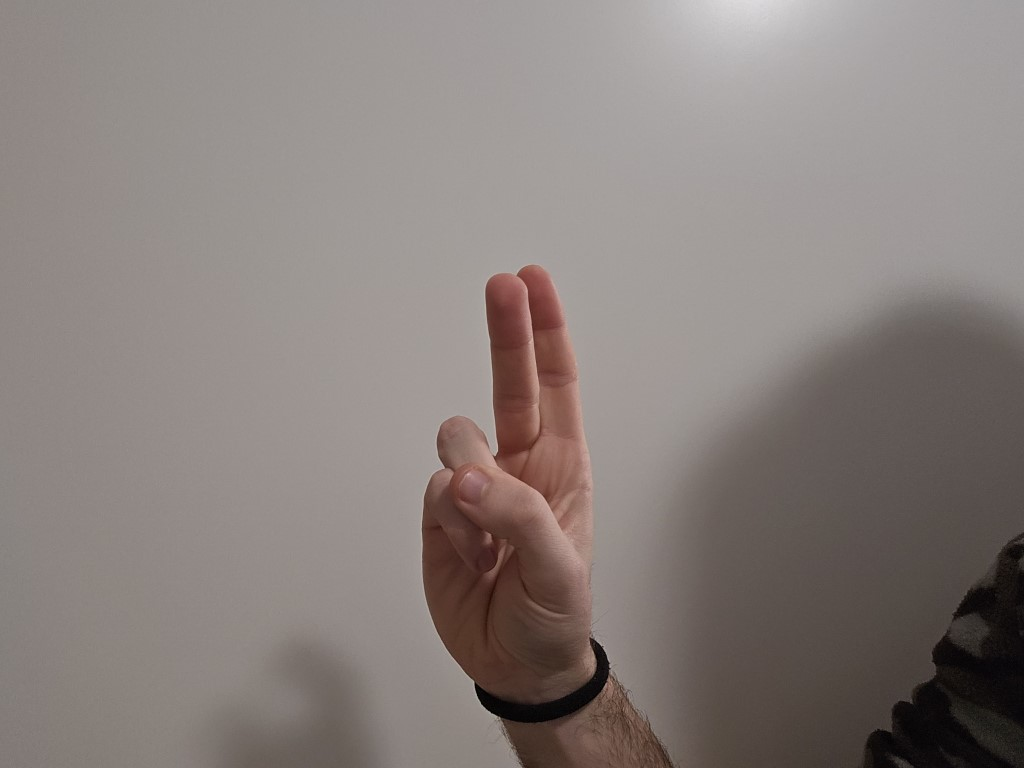r: (400, 259, 615, 663)
